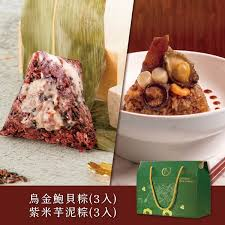zongzi: (0, 51, 96, 150), (123, 35, 208, 115)
